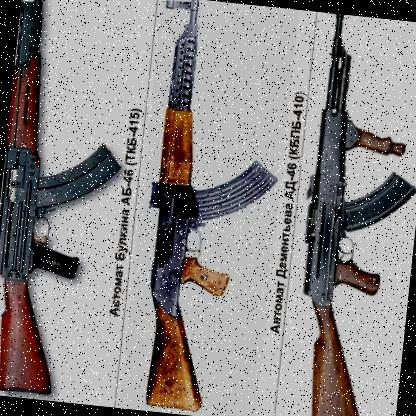rifle: (117, 0, 289, 415), (0, 0, 140, 400), (278, 11, 416, 416)
